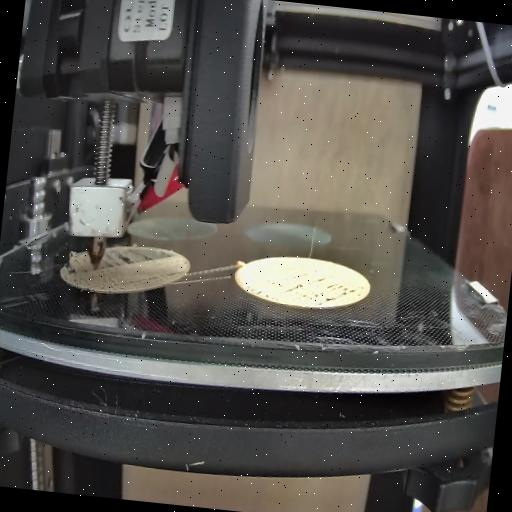under_extrusion: (241, 273, 362, 310), (104, 244, 172, 266), (62, 241, 84, 279)
